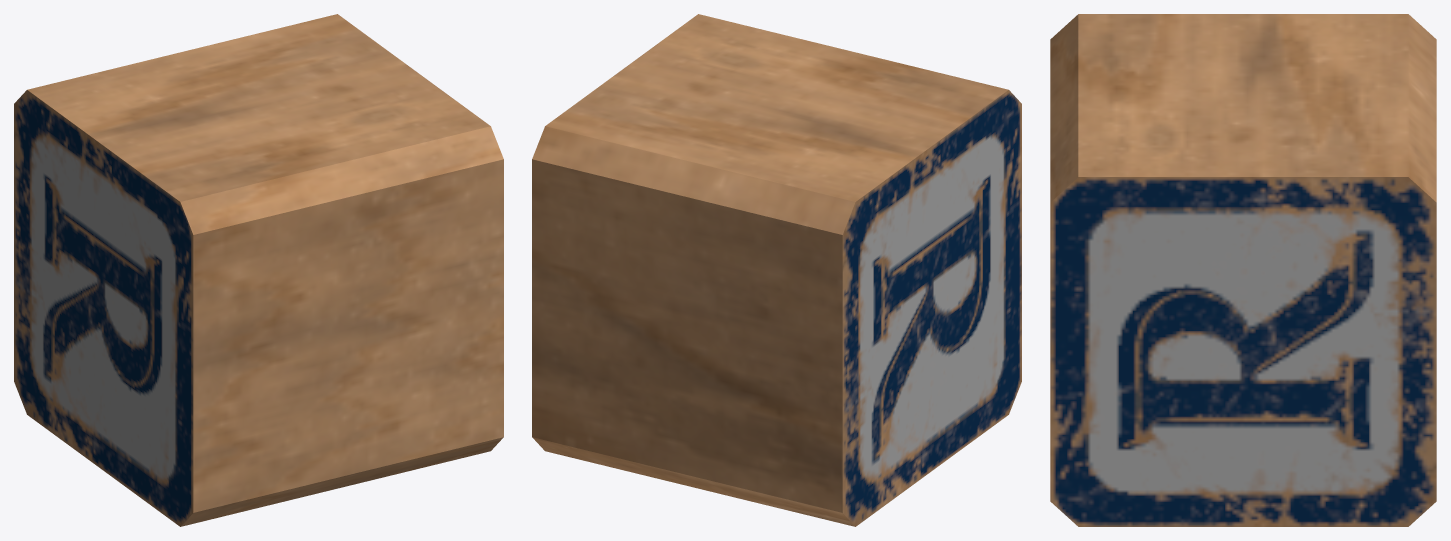
The model's file is block_R.obj.
The picture shows the model from 3 angles, left to right: view 1: azimuth 30°, elevation 25°; view 2: azimuth 150°, elevation 25°; view 3: azimuth 270°, elevation 25°; orthographic projection. The views are drawn at different scales.
Bounding box in the file's own units: 0.2 × 0.2 × 0.2.
1 material, 1 textured.
